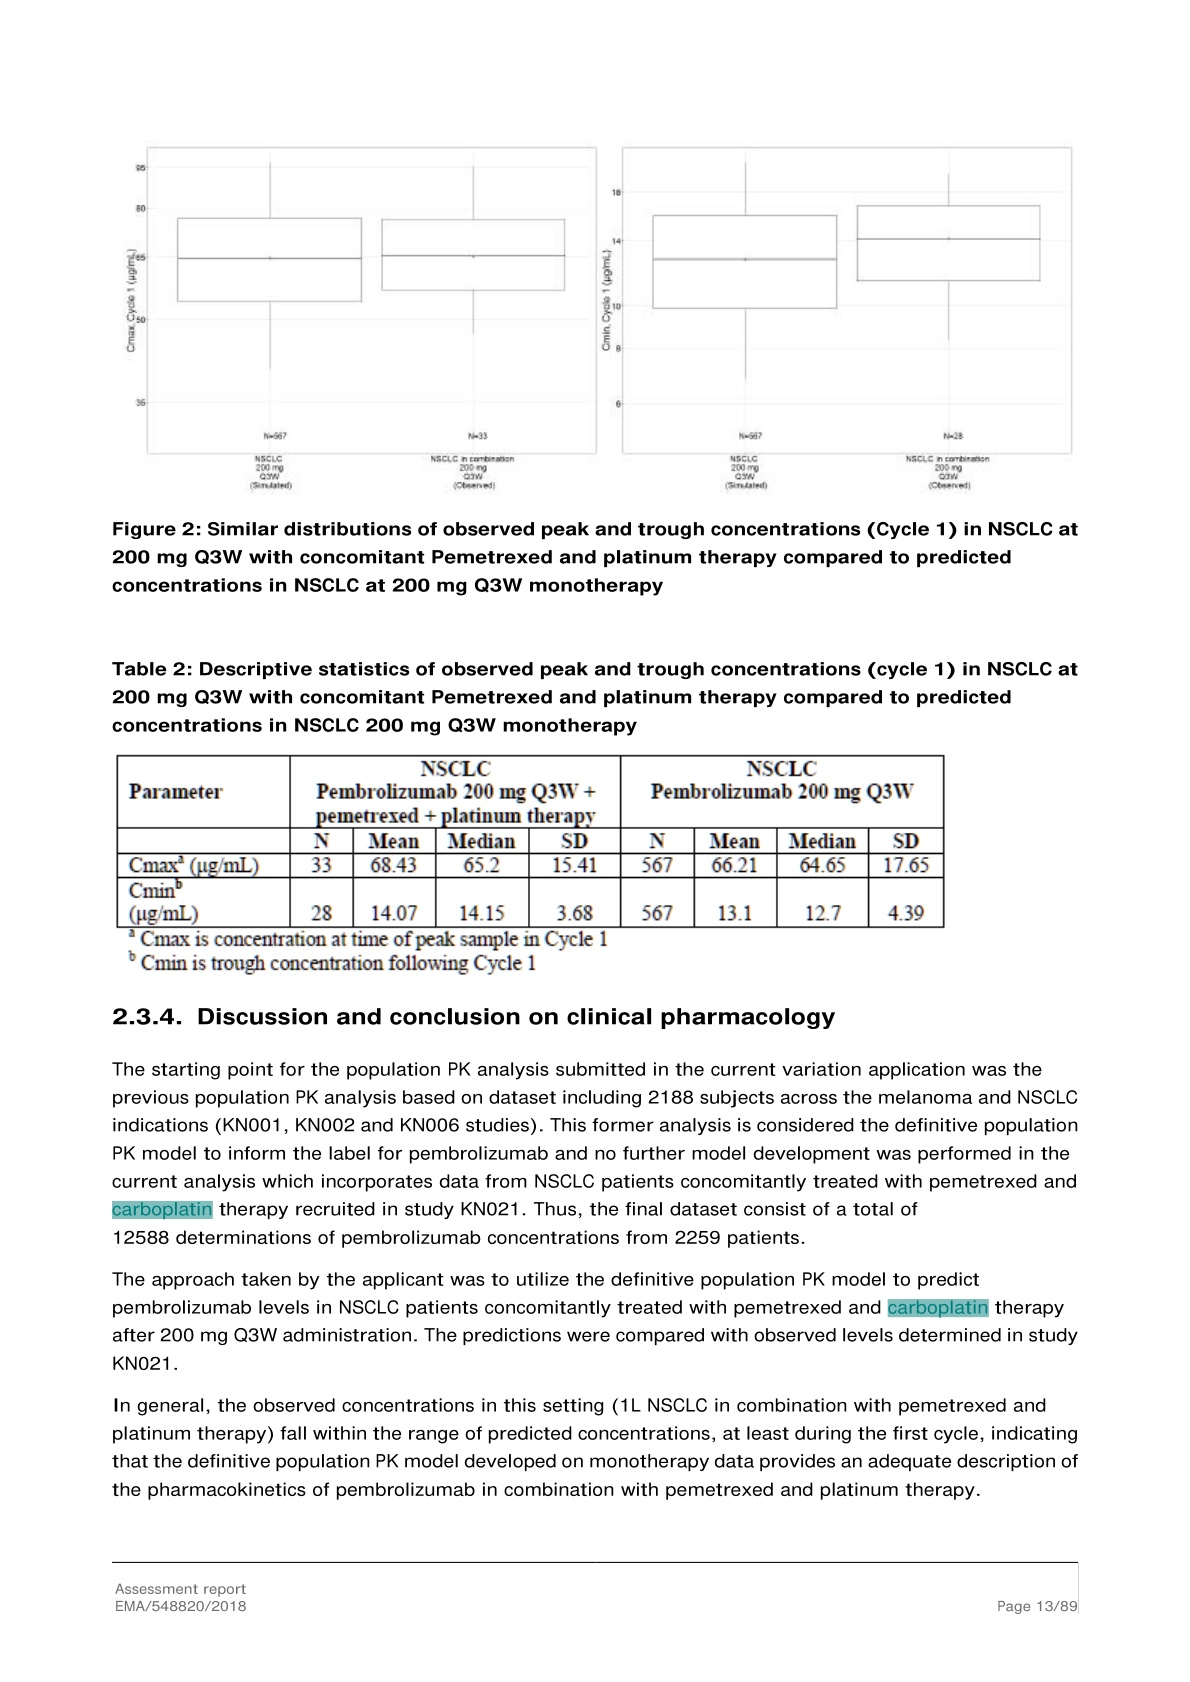merged_cells: (116, 753, 945, 929)
